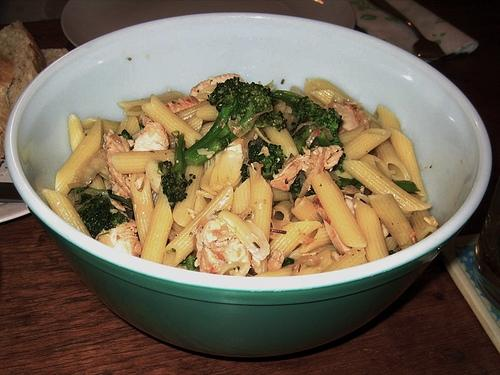broccoli: (184, 76, 278, 166), (158, 133, 193, 208), (78, 194, 130, 240), (248, 140, 287, 180), (316, 108, 340, 132), (288, 172, 302, 199), (338, 176, 364, 190), (393, 180, 420, 192), (178, 253, 196, 270), (282, 257, 294, 267), (248, 268, 256, 276)
onion: (68, 148, 107, 188), (229, 106, 274, 138), (290, 255, 321, 275), (306, 126, 334, 147), (292, 121, 322, 136)
